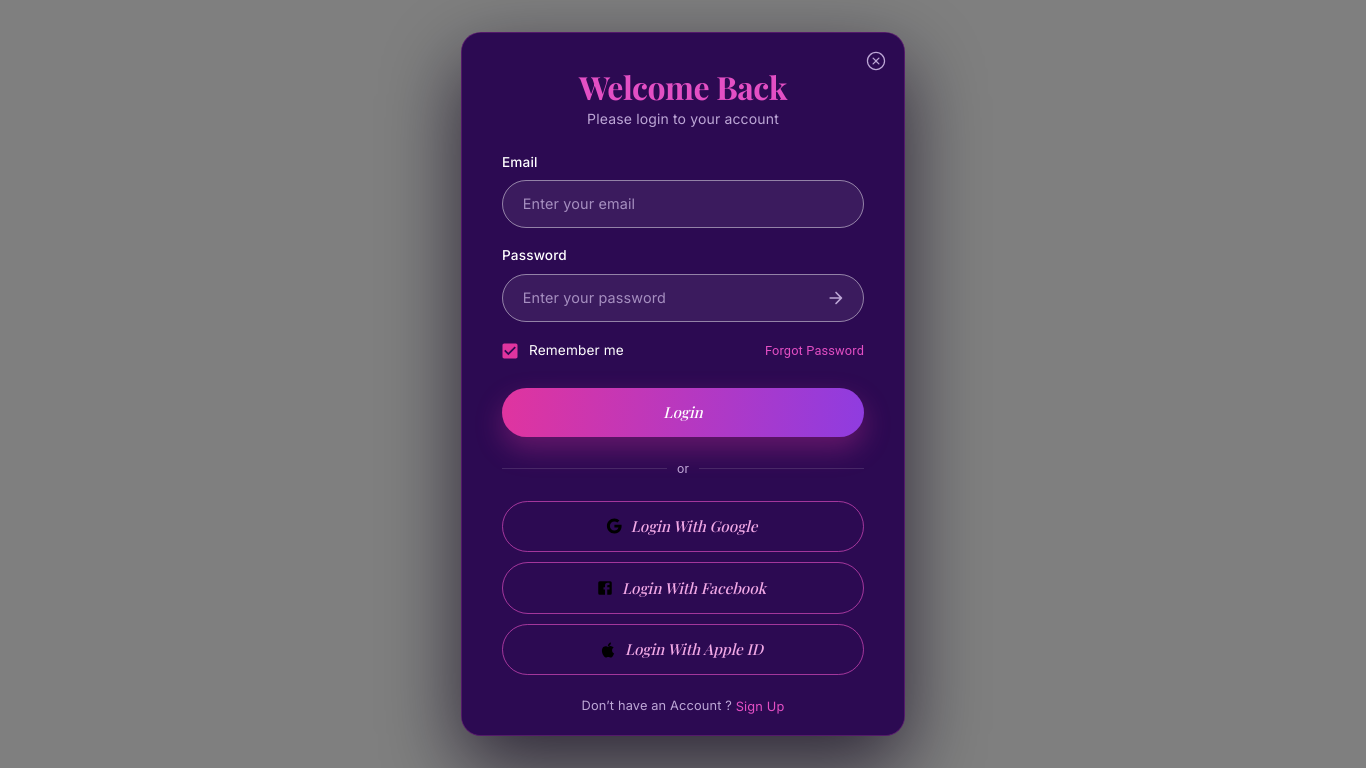
Scenario: when a sign-in fails › blames the password first, and lets it be tried again
The image size is (1366, 768).
Type "member@example.test" into the field labelled "Email" at [683, 204], box [502,180,864,228]
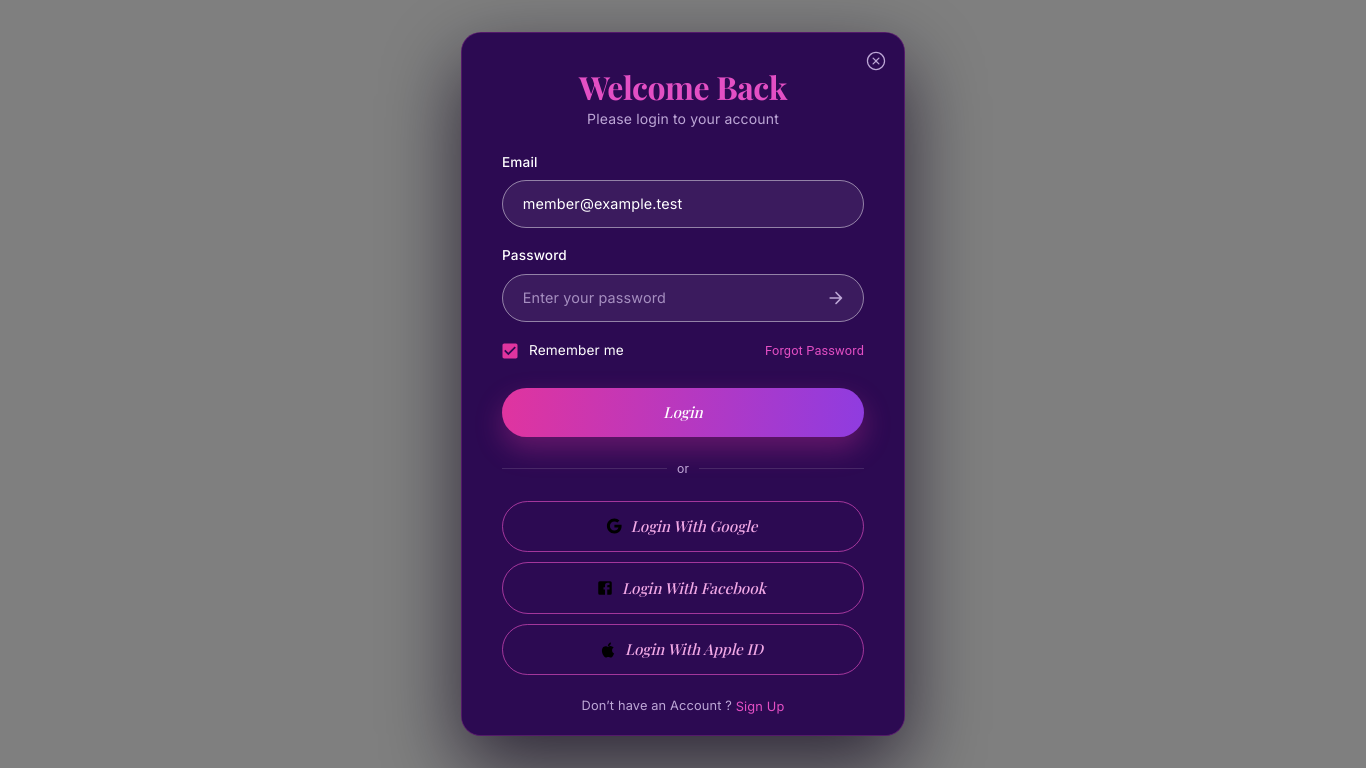
Type "a-password" into the password field labelled "Password" at [656, 298], box [502,274,810,322]
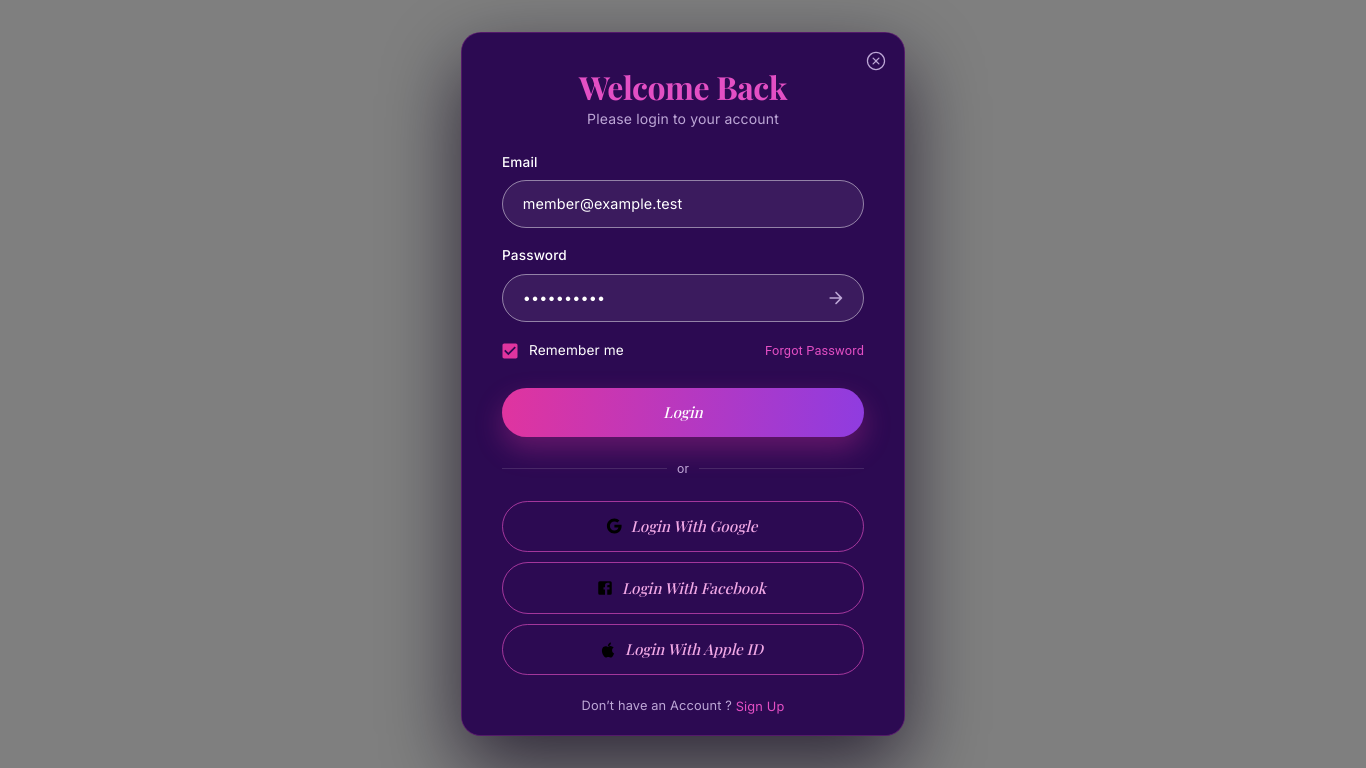
Click the button "Login" at [683, 412], box [502,388,864,437]
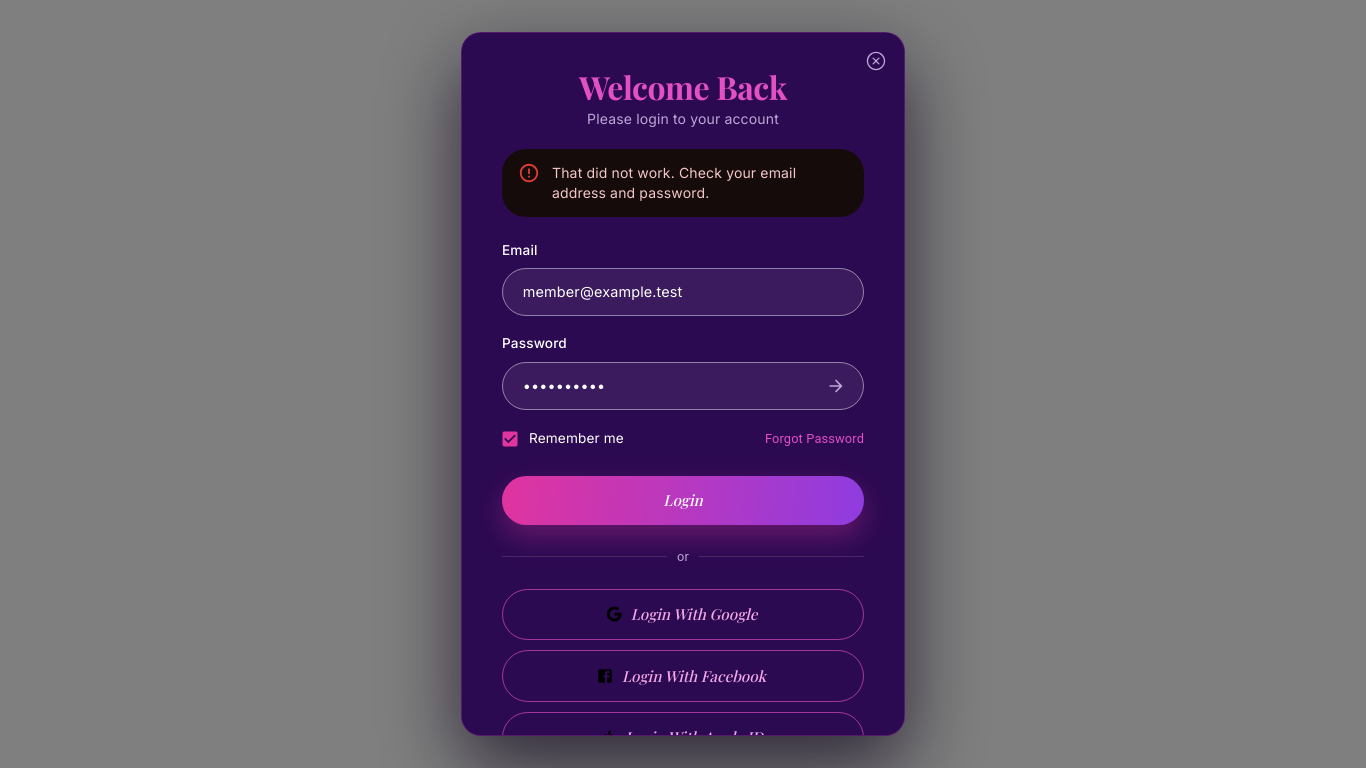
Expected: the message does not show "two-factor", [502,149,864,217]
Expected: the message reads "That did not work. Check your email address and password.", [552,164,796,201]
